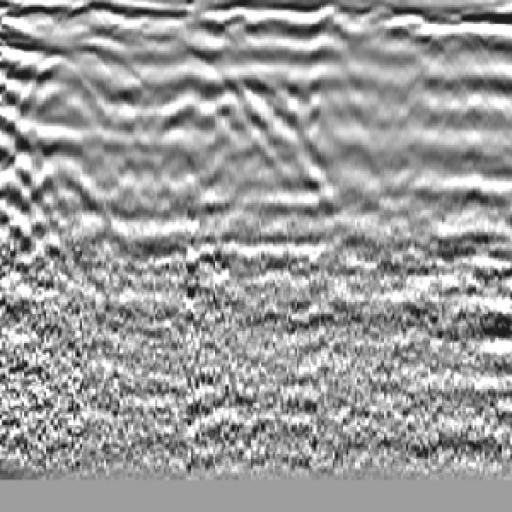non-metallic: (1, 32, 163, 216)
